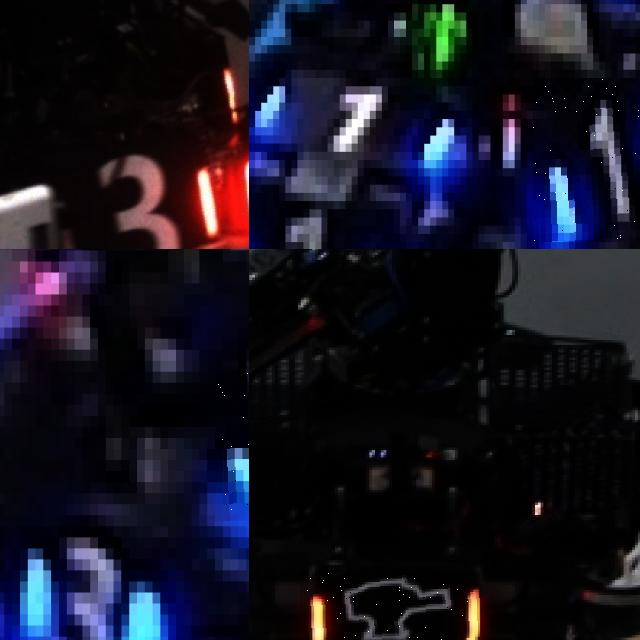B1: (249, 53, 454, 184), (533, 78, 640, 242), (249, 192, 418, 249)
B3: (0, 504, 176, 640), (215, 366, 249, 520)
Rs: (300, 572, 480, 640)
